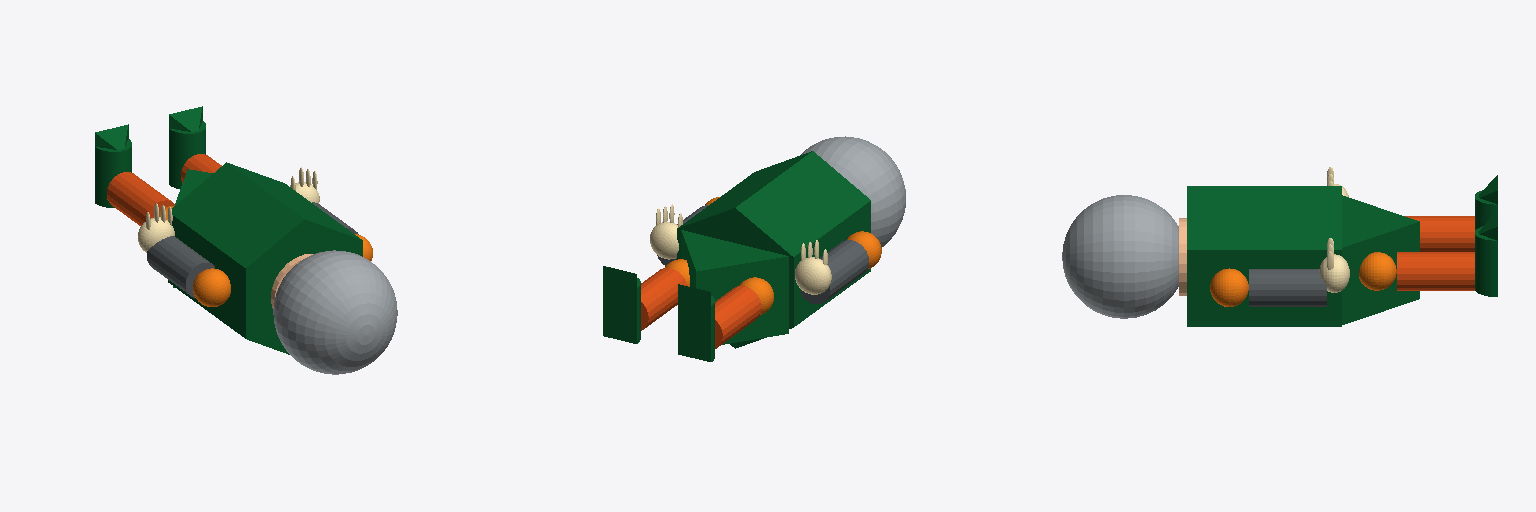
Rendered from ojisan.obj.
The picture shows the model from 3 angles: view 1: azimuth 30°, elevation 25°; view 2: azimuth 150°, elevation 25°; view 3: azimuth 270°, elevation 25°; orthographic projection.
Parts seen in each view (by area): view 1: obj_0; view 2: obj_0; view 3: obj_0.
Part boxes in pixels (x1,y1,x2,y2): obj_0: (95, 106, 397, 374); obj_0: (603, 136, 905, 361); obj_0: (1062, 167, 1497, 326).
Bounding box in the file's own units: 26.5 × 20 × 56.